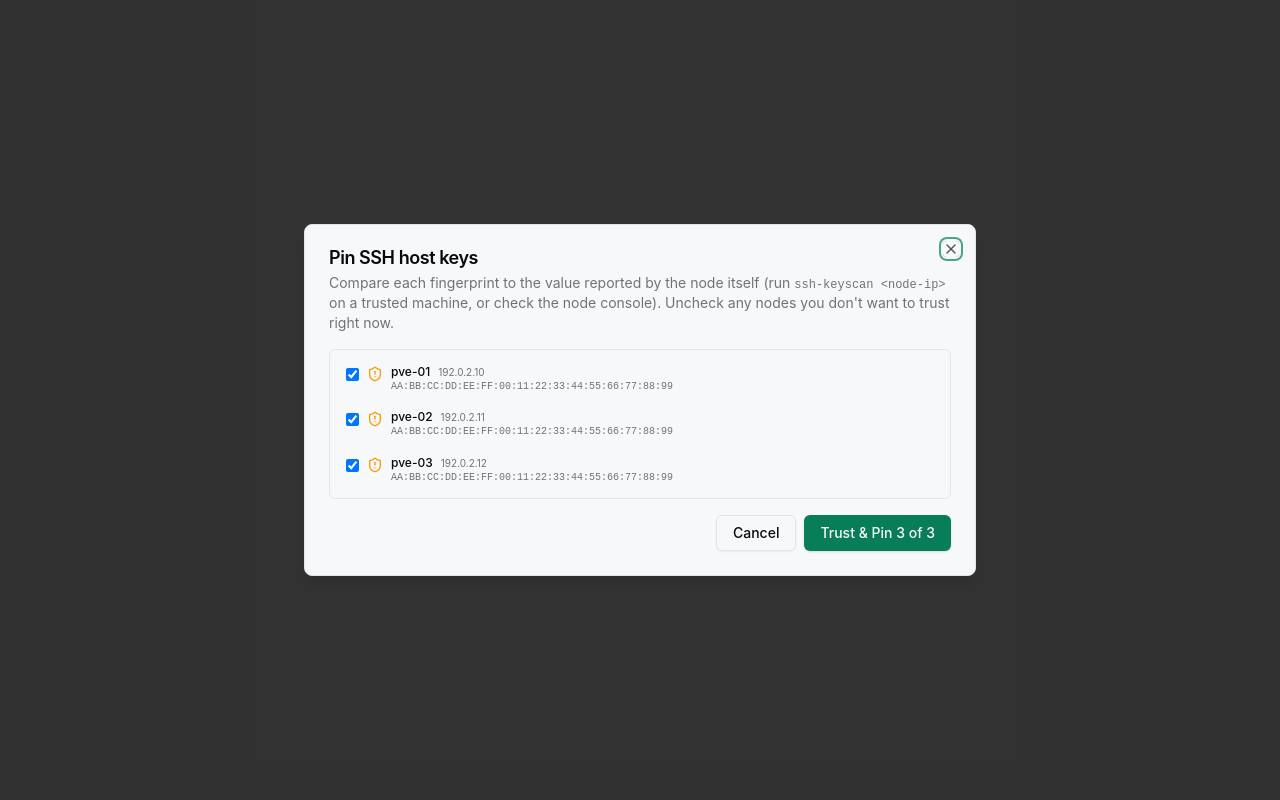
it: BulkPinDialog, pinning the host keys › control: pins every chosen node when the session goes on
The width and height of the screenshot is (1280, 800).
Click the button "Trust & Pin 3 of 3" at [878, 533], box top-left (804, 515), bottom-right (951, 551)
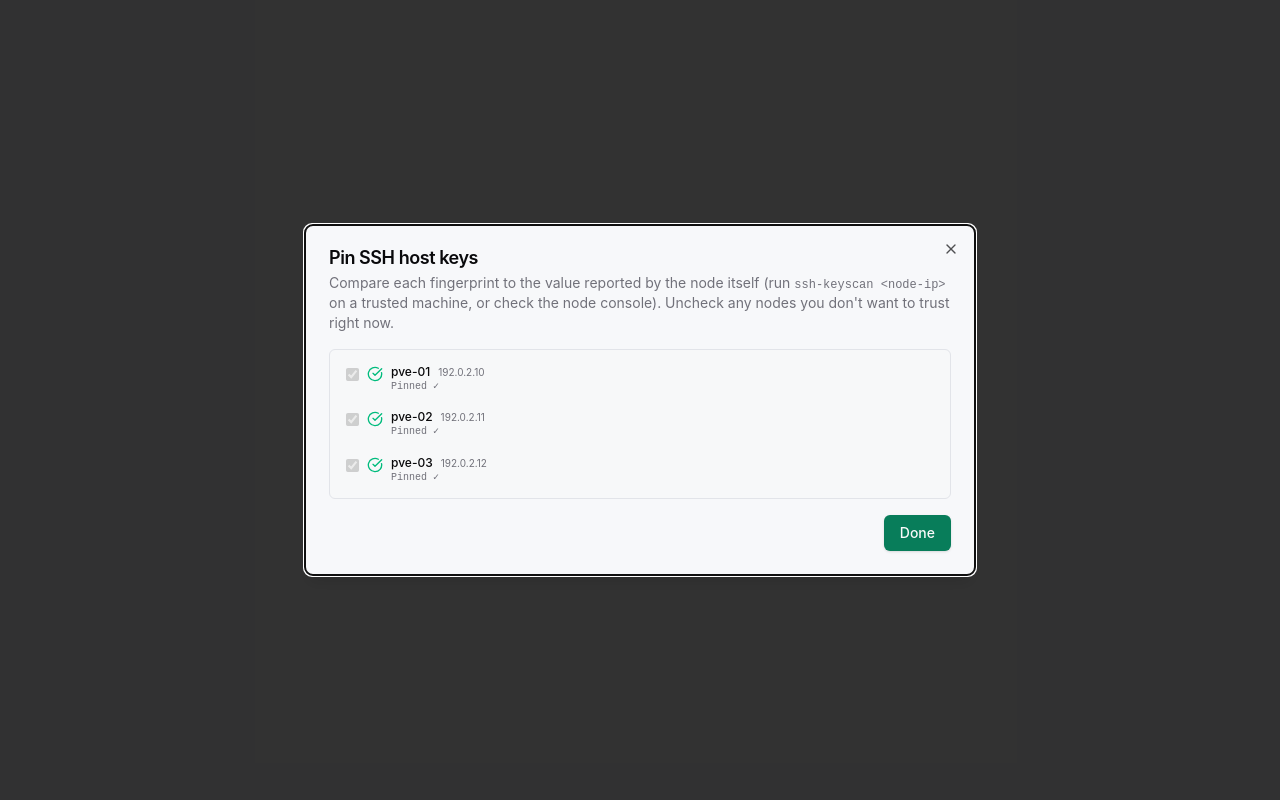
Expected: the button "Done" is shown, top-left (884, 515), bottom-right (951, 551)
